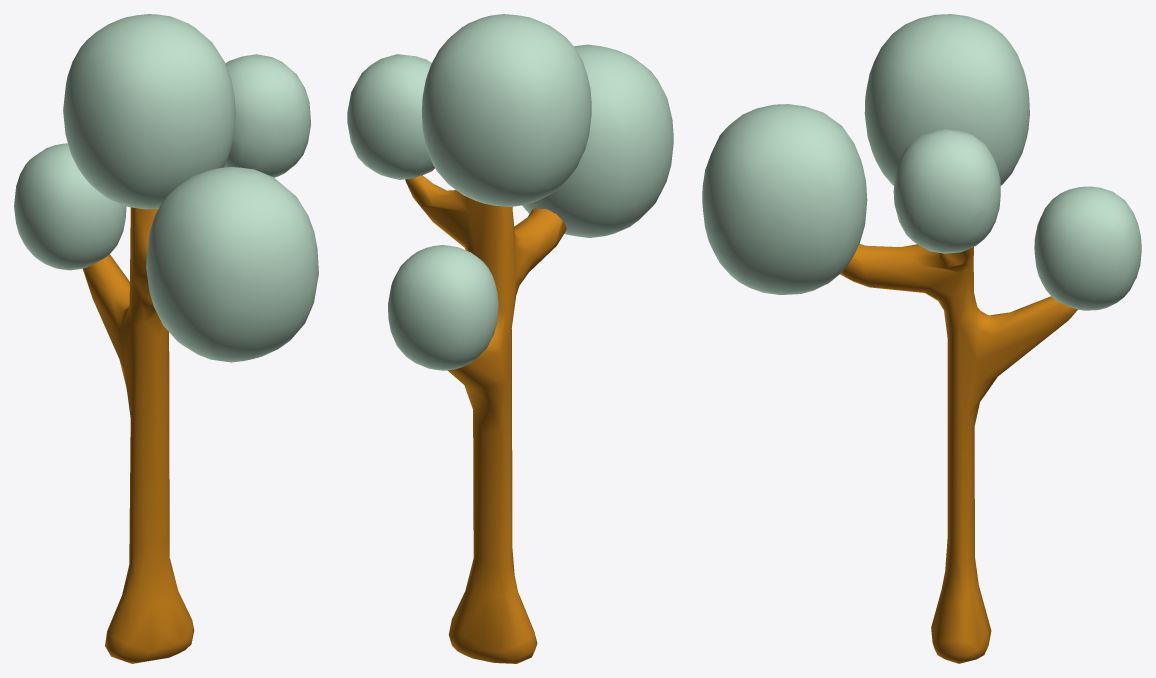
Rendered from Arbre2_big_Smooth.fbx.
The picture shows the model from 3 angles, left to right: view 1: azimuth 30°, elevation 25°; view 2: azimuth 150°, elevation 25°; view 3: azimuth 270°, elevation 25°; orthographic projection. The views are drawn at different scales.
Parts seen in each view (by area): view 1: Arbre2_big_Smooth; view 2: Arbre2_big_Smooth; view 3: Arbre2_big_Smooth.
Part boxes in pixels (x1,y1,x2,y2): Arbre2_big_Smooth: (14,14,318,663); Arbre2_big_Smooth: (347,14,673,663); Arbre2_big_Smooth: (702,14,1141,663).
Size of the model in its own units: 2.95 by 8 by 5.08.
